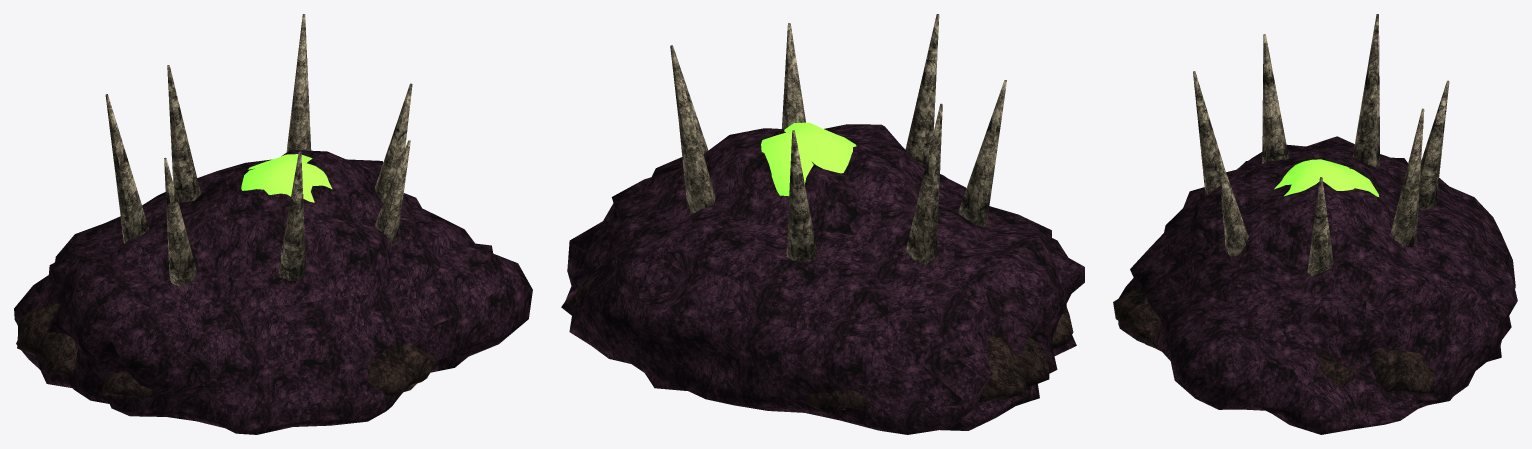
Rendered from nest.glb.
3 renders of one model, left to right at view 1: azimuth 30°, elevation 25°; view 2: azimuth 150°, elevation 25°; view 3: azimuth 270°, elevation 25°, orthographic. The views are drawn at different scales.
Parts seen in each view (by area): view 1: mound, lobe4, lobe7, coreorb, spire3, spire2, spire5, spire4, spire1, spire6, spire0, lobe5; view 2: mound, coreorb, lobe4, spire3, spire1, spire4, spire2, spire5, spire6, lobe3, spire0, lobe5; view 3: mound, spire3, lobe1, spire1, coreorb, spire4, lobe7, spire2, spire5, spire0, spire6, lobe0.
Boxes of the visible parts, x1,y1,x2,y2 form: mound: (14,150,532,434); lobe4: (17,303,78,375); lobe7: (365,342,436,396); coreorb: (241,154,332,202); spire3: (105,94,148,243); spire2: (167,65,200,202); spire5: (278,151,306,280); spire4: (164,157,197,286); spire1: (286,14,311,151); spire6: (375,140,410,245); spire0: (375,83,412,202); lobe5: (102,371,155,398); mound: (561,124,1084,434); coreorb: (761,122,856,196); lobe4: (979,333,1049,402); spire3: (906,103,942,264); spire1: (672,53,715,212); spire4: (958,80,1006,226); spire2: (786,130,817,262); spire5: (905,14,939,168); spire6: (782,23,805,128); lobe3: (804,390,870,413); spire0: (670,45,708,153); lobe5: (1052,307,1073,348); mound: (1118,136,1517,434); spire3: (1352,14,1380,166); lobe1: (1369,349,1436,394); spire1: (1391,108,1424,247); coreorb: (1274,159,1378,196); spire4: (1262,34,1288,163); lobe7: (1113,282,1161,350); spire2: (1418,80,1449,210); spire5: (1193,71,1223,195); spire0: (1307,177,1333,275); spire6: (1218,156,1248,256); lobe0: (1319,351,1354,386).
Bounding box in the file's own units: 406 × 232 × 326.
Materials: 4 (3 with a texture image).
